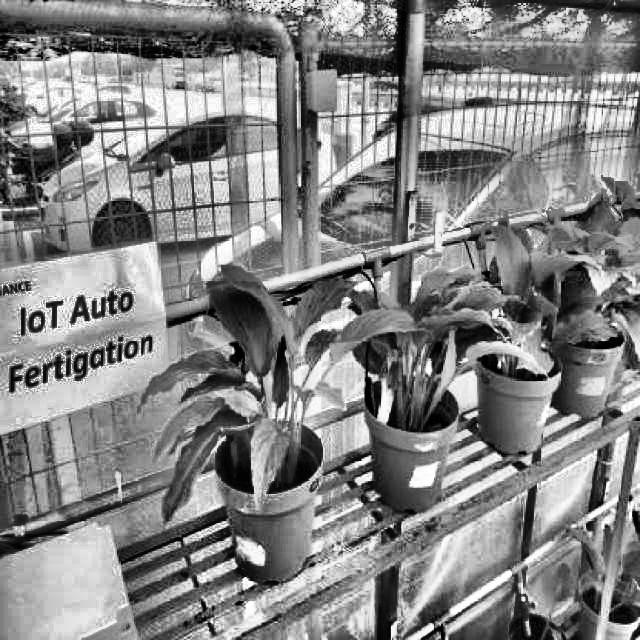plants: (142, 252, 415, 523), (330, 252, 555, 448), (458, 229, 604, 385)
